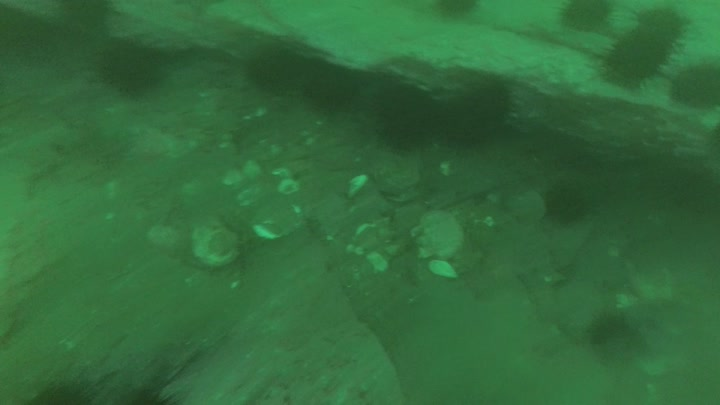echinus: (434, 86, 514, 154), (598, 28, 680, 92), (367, 92, 446, 157), (92, 37, 167, 99), (241, 42, 309, 98), (583, 307, 651, 362), (299, 65, 370, 117), (669, 59, 720, 113), (627, 6, 689, 49), (540, 186, 594, 226), (553, 1, 616, 34), (437, 1, 480, 18)
scallop: (410, 207, 468, 263)
